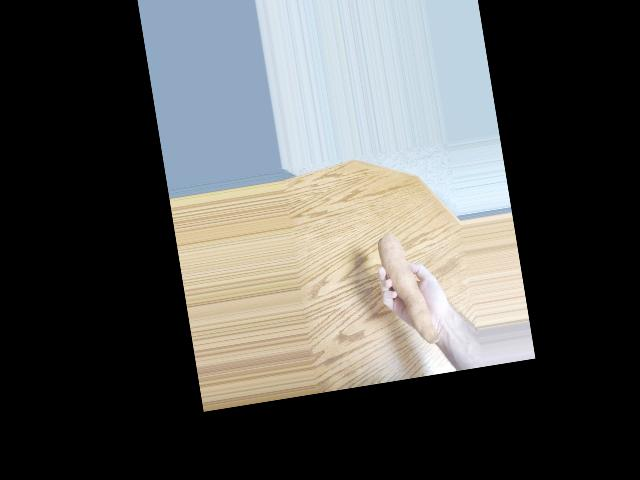sweet_potato: (373, 234, 433, 343)
